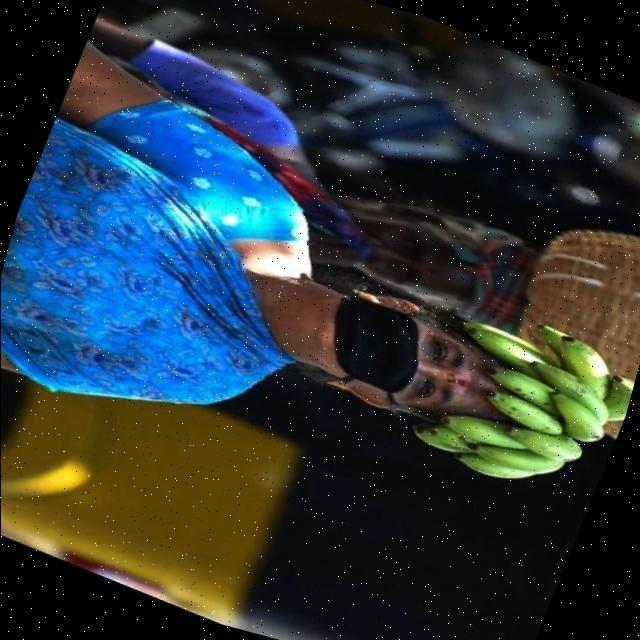mask: (337, 292, 411, 407)
no_gloves: (443, 324, 627, 490)
